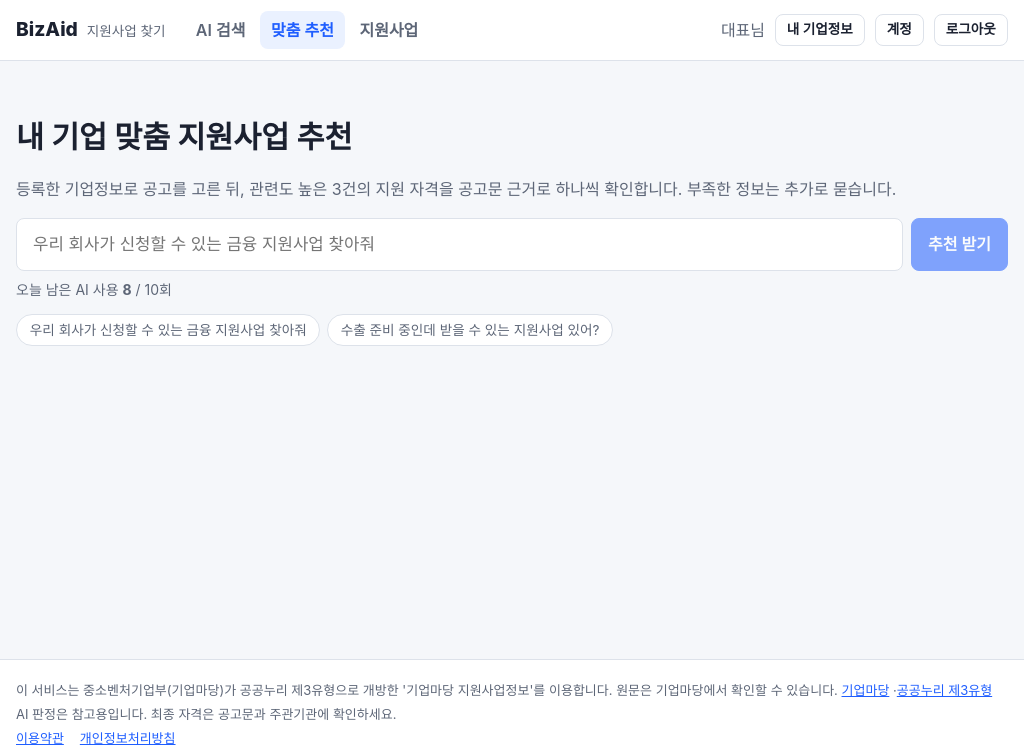
Test: 맞춤 추천은 서버가 CONTINUE를 주는 동안 한 단계씩 진행하고, 부족 정보를 답한 뒤 최종 결과를 보여 준다
In the field named "추천 질문": (460, 244) [16,218,903,271], type "금융 지원사업"
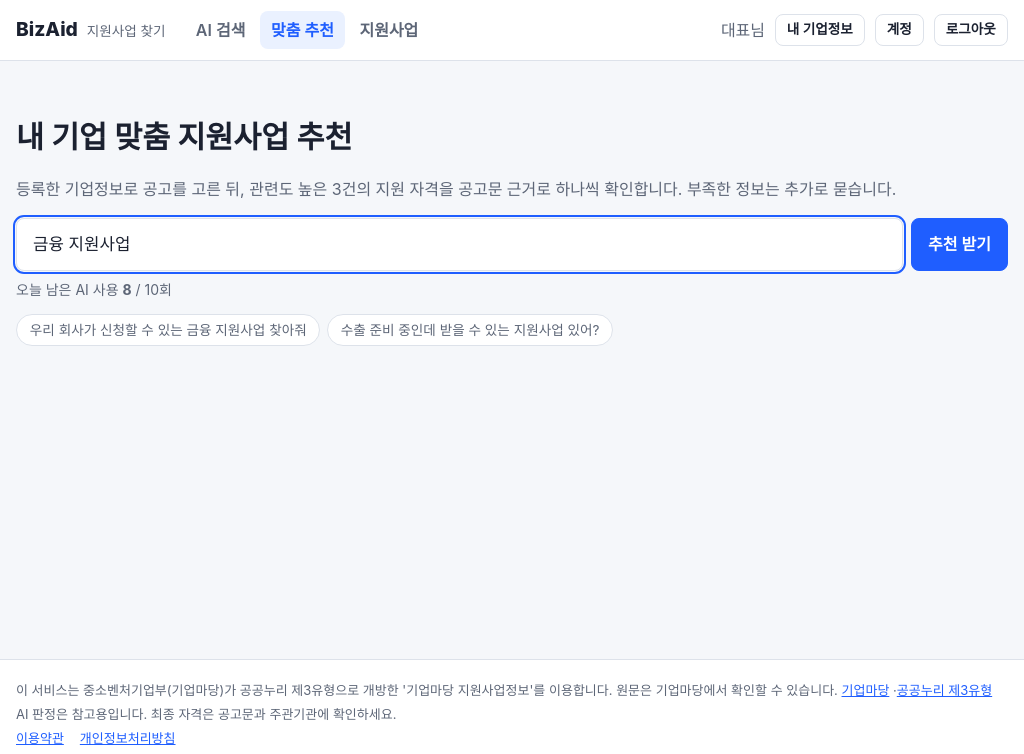
Click the button "추천 받기": (960, 244) [911,218,1008,271]
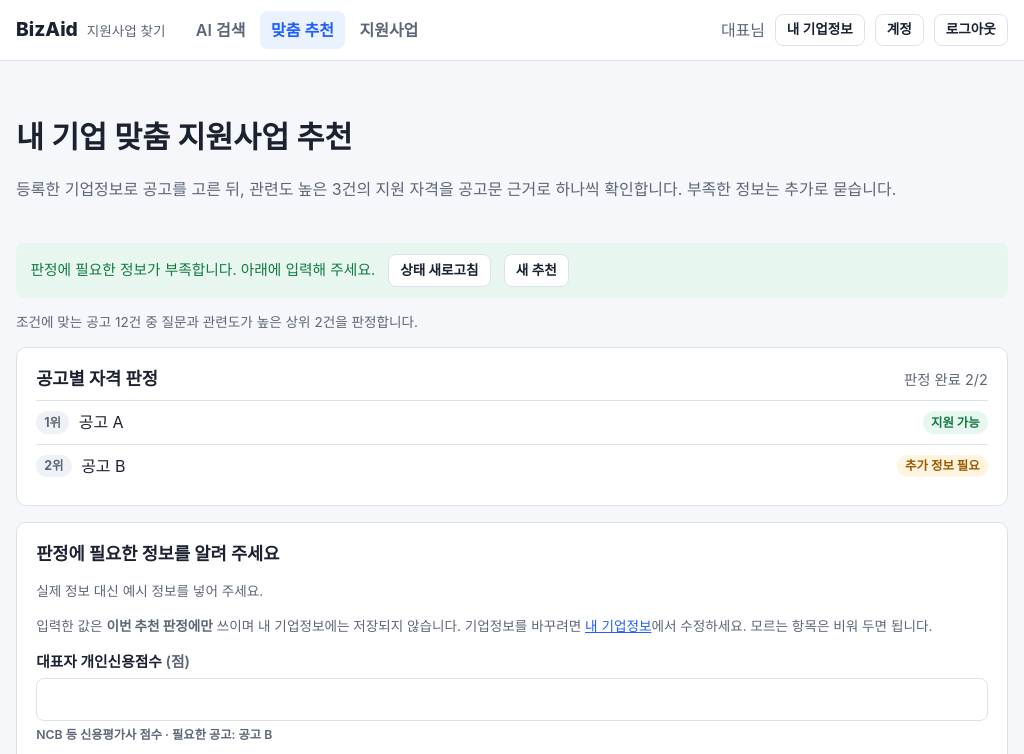
Result: the text "이번 추천 판정에만" is shown at [106,618,213,634]
Result: the text "NCB 등 신용평가사 점수 · 필요한 공고: 공고 B" is shown at [36,727,272,742]
// 형식이 틀리면 보내지 않는다.
In the field labelled "대표자 개인신용점수 (점)": (512, 699) [36,678,988,720], type "칠백"
(page scrolled)
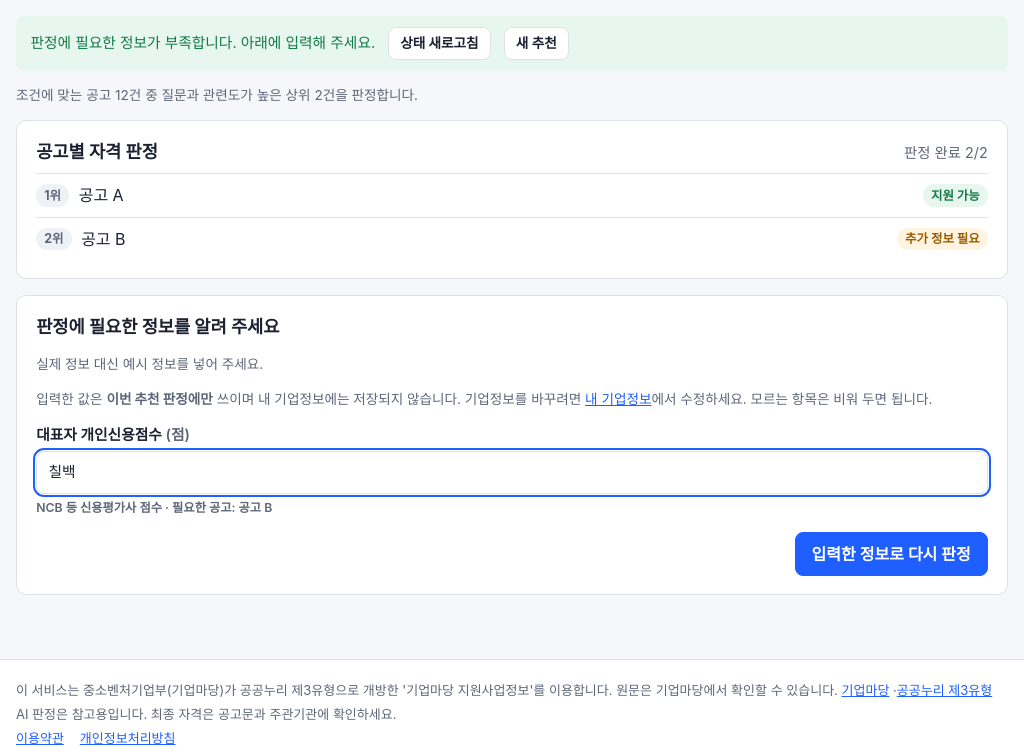
Click the button "입력한 정보로 다시 판정": (891, 554) [794,532,988,576]
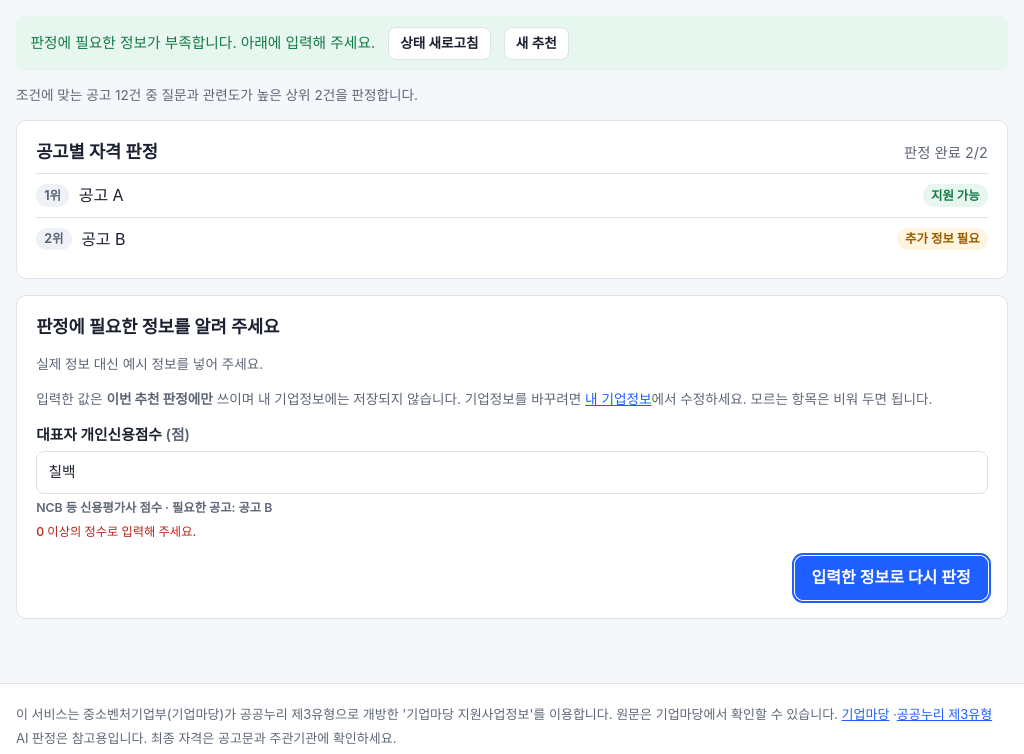
Result: the text "0 이상의 정수로 입력해 주세요." is shown at [36,524,196,539]
Replace the text in the field labelled "대표자 개인신용점수 (점)" with "720": (512, 472) [36,451,988,494]
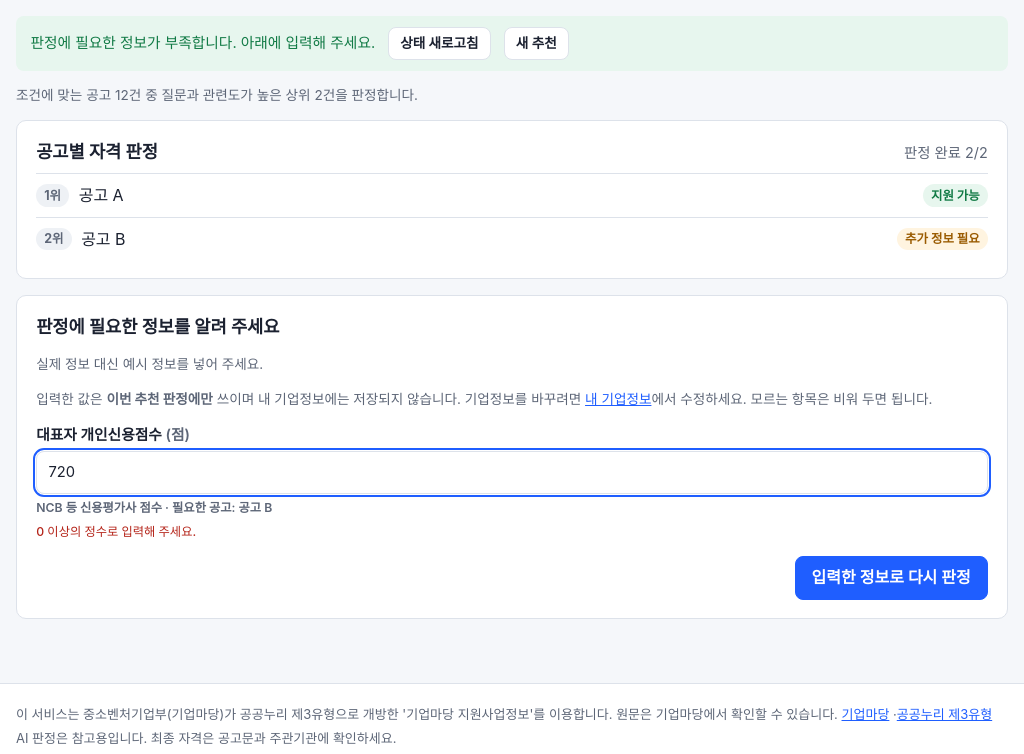
Click the button "입력한 정보로 다시 판정": (891, 578) [794,556,988,600]
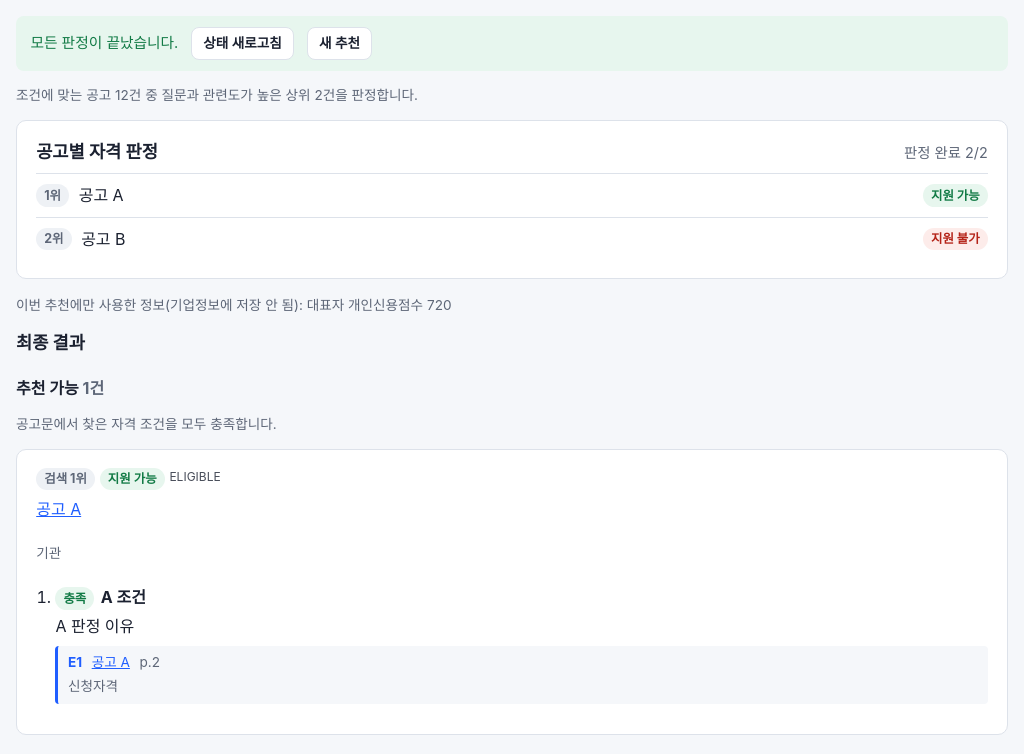
Result: the element "추천 가능" shows "공고 A" at [36,497,988,522]
Result: the element "추천 가능" shows "A 판정 이유" at [55,616,134,636]
Result: the element "추천 가능" shows "p.2" at [140,654,160,670]
